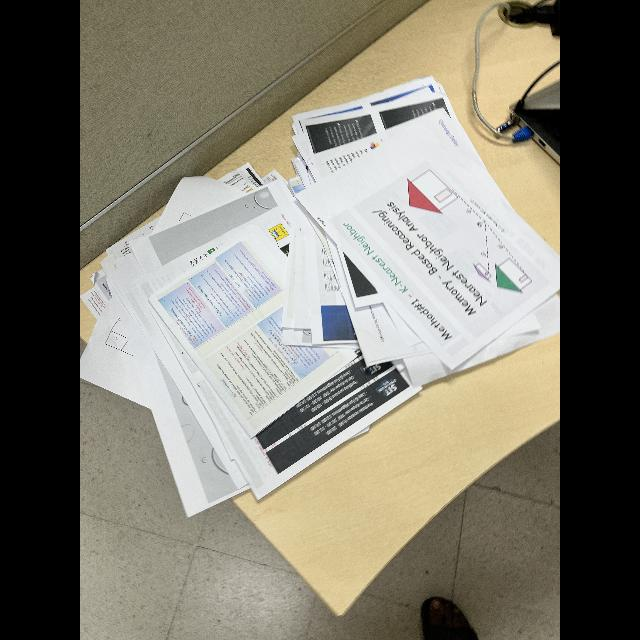reuseable_paper: (80, 74, 560, 522)
